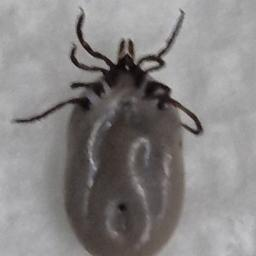Ixodes scapularis: (12, 7, 203, 256)
